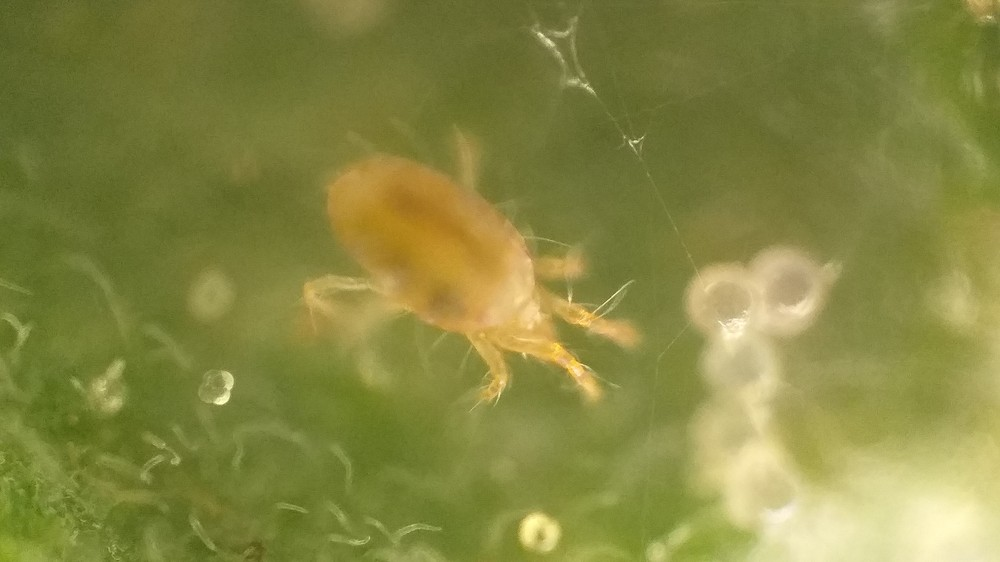Aracnido Rojo: (293, 124, 650, 444)
